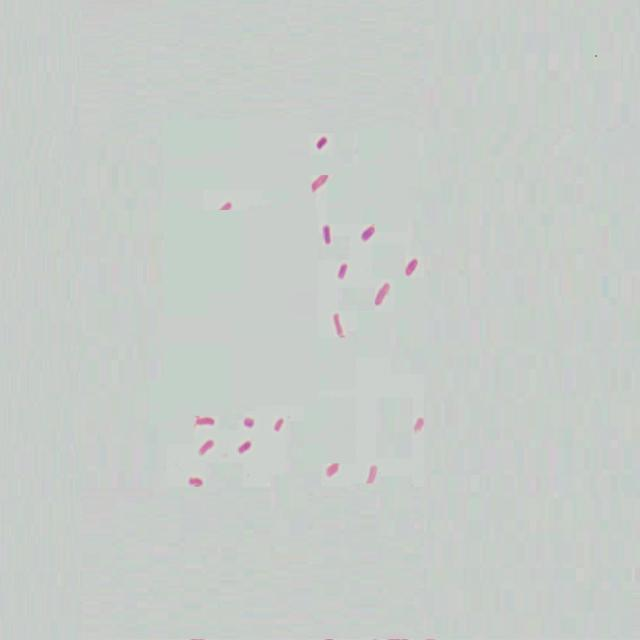E-coli: (401, 253, 421, 279), (309, 169, 329, 194), (411, 412, 427, 438), (334, 306, 346, 340), (326, 455, 341, 482), (196, 438, 216, 458), (367, 459, 381, 487), (375, 281, 391, 305), (357, 224, 378, 242), (217, 200, 237, 218), (320, 224, 336, 246), (194, 412, 216, 428), (270, 411, 284, 436), (336, 261, 351, 283), (314, 132, 330, 152), (186, 474, 206, 490), (240, 416, 258, 432), (234, 440, 250, 458)
